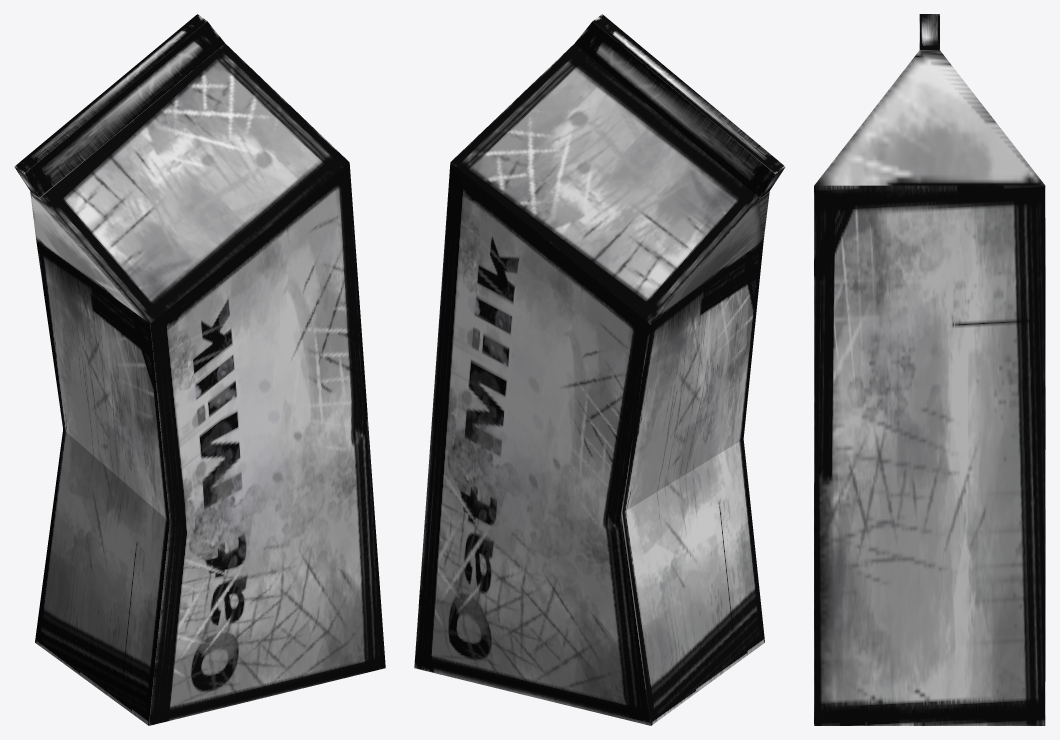
Rendered from oat_milk_damaged.glb.
3 renders of one model, left to right at view 1: azimuth 30°, elevation 25°; view 2: azimuth 150°, elevation 25°; view 3: azimuth 270°, elevation 25°, orthographic.
Parts seen in each view (by area): view 1: Milk Var 3.001; view 2: Milk Var 3.001; view 3: Milk Var 3.001.
Boxes of the visible parts, box(x1,y1,x2,y2) form: Milk Var 3.001: box(14, 14, 385, 725); Milk Var 3.001: box(414, 14, 785, 725); Milk Var 3.001: box(814, 14, 1045, 725).
Bounding box in the file's own units: 0.1887 × 0.3726 × 0.1205.
Materials: 1 (1 with a texture image).
